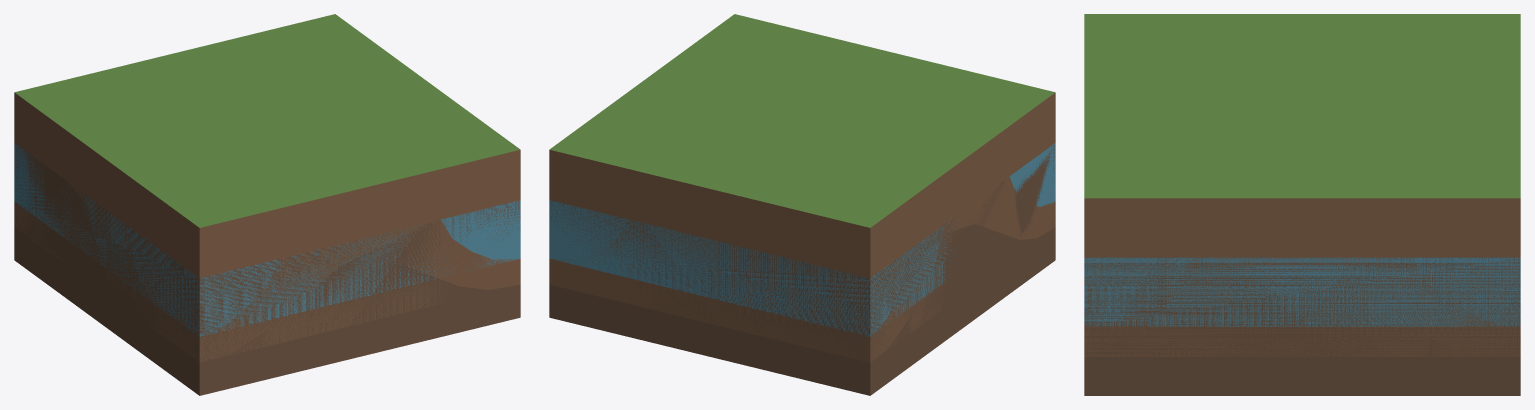
File: terrain2.fbx
The picture shows the model from 3 angles, left to right: view 1: azimuth 30°, elevation 25°; view 2: azimuth 150°, elevation 25°; view 3: azimuth 270°, elevation 25°; orthographic projection. The views are drawn at different scales.
Parts seen in each view (by area): view 1: terrain_land_2, terrain_land_corner_double_2, terrain_water_corner_2, terrain_water_2, terrain_land_corner_2, terrain_land_edge_2; view 2: terrain_land_2, terrain_land_corner_double_2, terrain_water_corner_2, terrain_water_2, terrain_land_corner_2, terrain_land_edge_2; view 3: terrain_land_2, terrain_water_2, terrain_water_corner_2, terrain_land_corner_double_2, terrain_land_corner_2, terrain_land_edge_2.
Part boxes in pixels (x1,y1,x2,y2): terrain_land_2: [14, 14, 520, 395]; terrain_land_corner_double_2: [14, 38, 520, 394]; terrain_water_corner_2: [14, 14, 520, 394]; terrain_water_2: [14, 143, 520, 395]; terrain_land_corner_2: [14, 54, 520, 393]; terrain_land_edge_2: [14, 60, 520, 394]; terrain_land_2: [549, 14, 1055, 394]; terrain_land_corner_double_2: [549, 14, 1055, 395]; terrain_water_corner_2: [550, 39, 1055, 381]; terrain_water_2: [549, 143, 1055, 395]; terrain_land_corner_2: [549, 15, 1055, 394]; terrain_land_edge_2: [603, 15, 1055, 394]; terrain_land_2: [1084, 14, 1520, 395]; terrain_water_2: [1084, 257, 1520, 395]; terrain_water_corner_2: [1084, 14, 1520, 395]; terrain_land_corner_double_2: [1084, 14, 1520, 395]; terrain_land_corner_2: [1084, 67, 1520, 395]; terrain_land_edge_2: [1084, 14, 1519, 395].
Bounding box in the file's own units: 1 × 0.5 × 1.
Materials: 2 (2 with a texture image).
